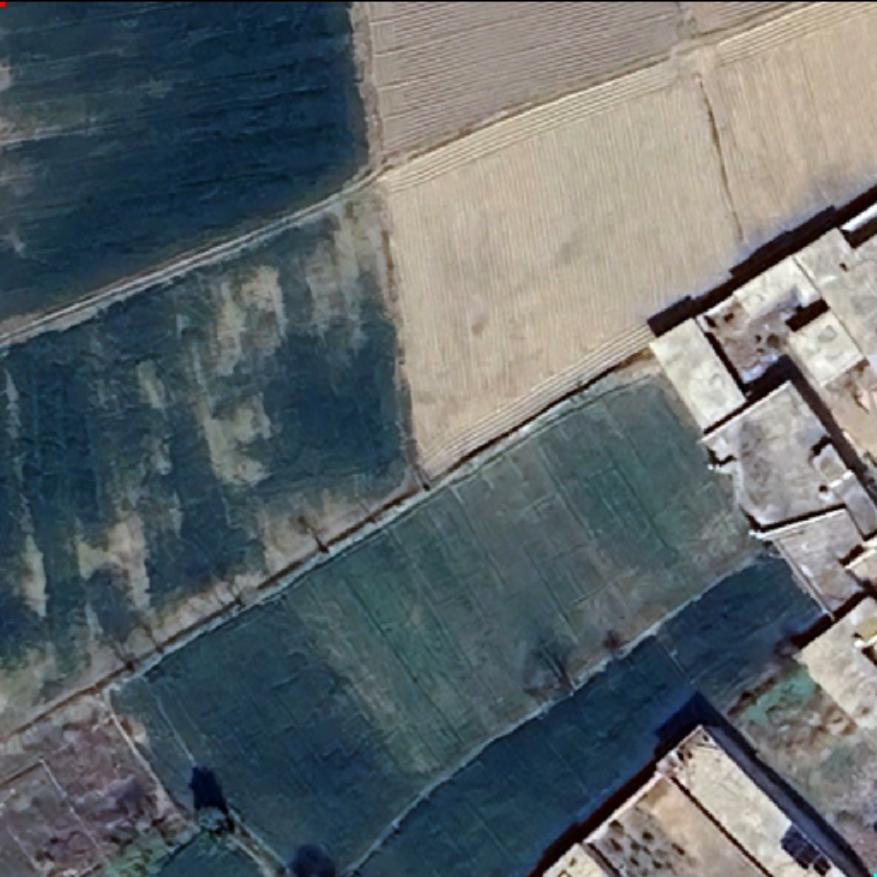Solarpanel: (778, 826, 834, 875)
